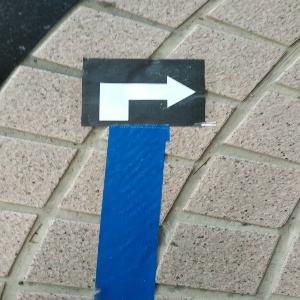right: (83, 60, 204, 126)
